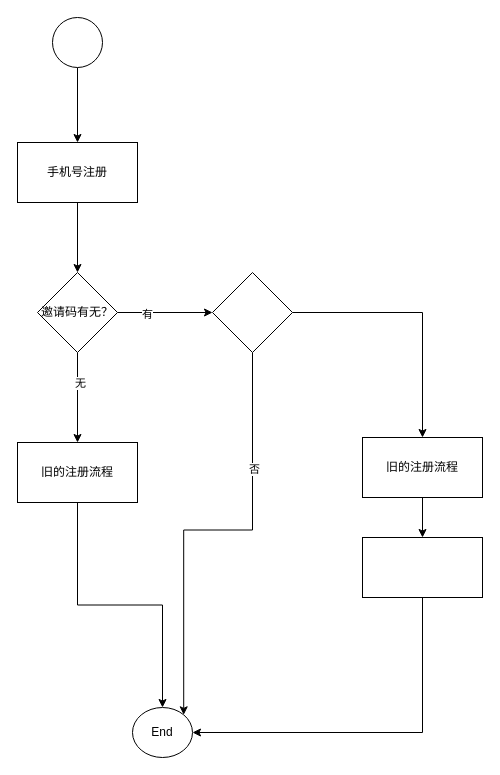
Image size: 500x775. Some labels were removed from this diagram. The box of each missing label's shape, as (x1, y1, x2, y2) in pixels:
保存邀请码: (362, 536, 482, 598)
开始: (52, 16, 102, 68)
邀请码是否正确？: (212, 272, 292, 352)
